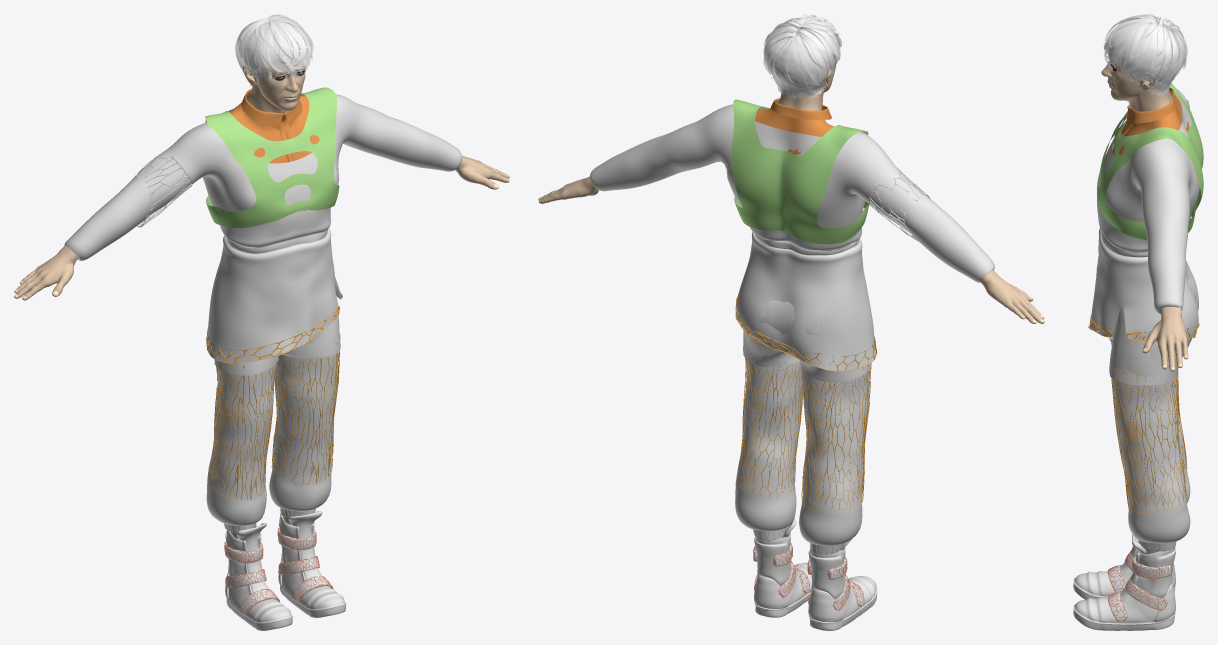
Rendered from Biologiste homme.fbx.
The picture shows the model from 3 angles, left to right: view 1: azimuth 30°, elevation 25°; view 2: azimuth 150°, elevation 25°; view 3: azimuth 270°, elevation 25°; orthographic projection. The views are drawn at different scales.
Parts seen in each view (by area): view 1: Haut, Pants, Gelatine haut de corps, Shoes, Gelatine pants, Body, Hair, Chemise, Boxers, Gelatine haut, Gelatine haut.001; view 2: Haut, Pants, Gelatine haut de corps, Shoes, Gelatine pants, Hair, Body, Boxers, Chemise, Gelatine haut.001; view 3: Haut, Pants, Shoes, Hair, Body, Gelatine haut de corps, Gelatine pants, Boxers, Chemise, Gelatine haut.001.
Boxes of the visible parts, x1,y1,x2,y2 form: Haut: [64, 94, 461, 363]; Pants: [206, 316, 338, 532]; Gelatine haut de corps: [205, 87, 339, 227]; Shoes: [224, 511, 346, 630]; Gelatine pants: [207, 334, 340, 500]; Body: [14, 55, 509, 538]; Hair: [234, 14, 313, 86]; Chemise: [229, 88, 319, 163]; Boxers: [214, 316, 340, 375]; Gelatine haut: [135, 155, 192, 227]; Gelatine haut.001: [206, 292, 342, 363]; Haut: [590, 104, 994, 370]; Pants: [735, 328, 869, 554]; Gelatine haut de corps: [731, 99, 869, 244]; Shoes: [753, 518, 877, 630]; Gelatine pants: [735, 358, 871, 510]; Hair: [763, 14, 841, 99]; Body: [538, 54, 1044, 550]; Boxers: [743, 300, 871, 381]; Chemise: [755, 98, 884, 220]; Gelatine haut.001: [735, 298, 877, 371]; Haut: [1090, 88, 1199, 339]; Pants: [1111, 336, 1191, 551]; Shoes: [1073, 534, 1175, 630]; Hair: [1103, 14, 1187, 95]; Body: [1101, 44, 1188, 554]; Gelatine haut de corps: [1097, 83, 1203, 240]; Gelatine pants: [1111, 343, 1187, 512]; Boxers: [1109, 279, 1198, 385]; Chemise: [1112, 87, 1189, 156]; Gelatine haut.001: [1088, 315, 1199, 340].
Bounding box in the file's own units: 169 × 191 × 37.92.
